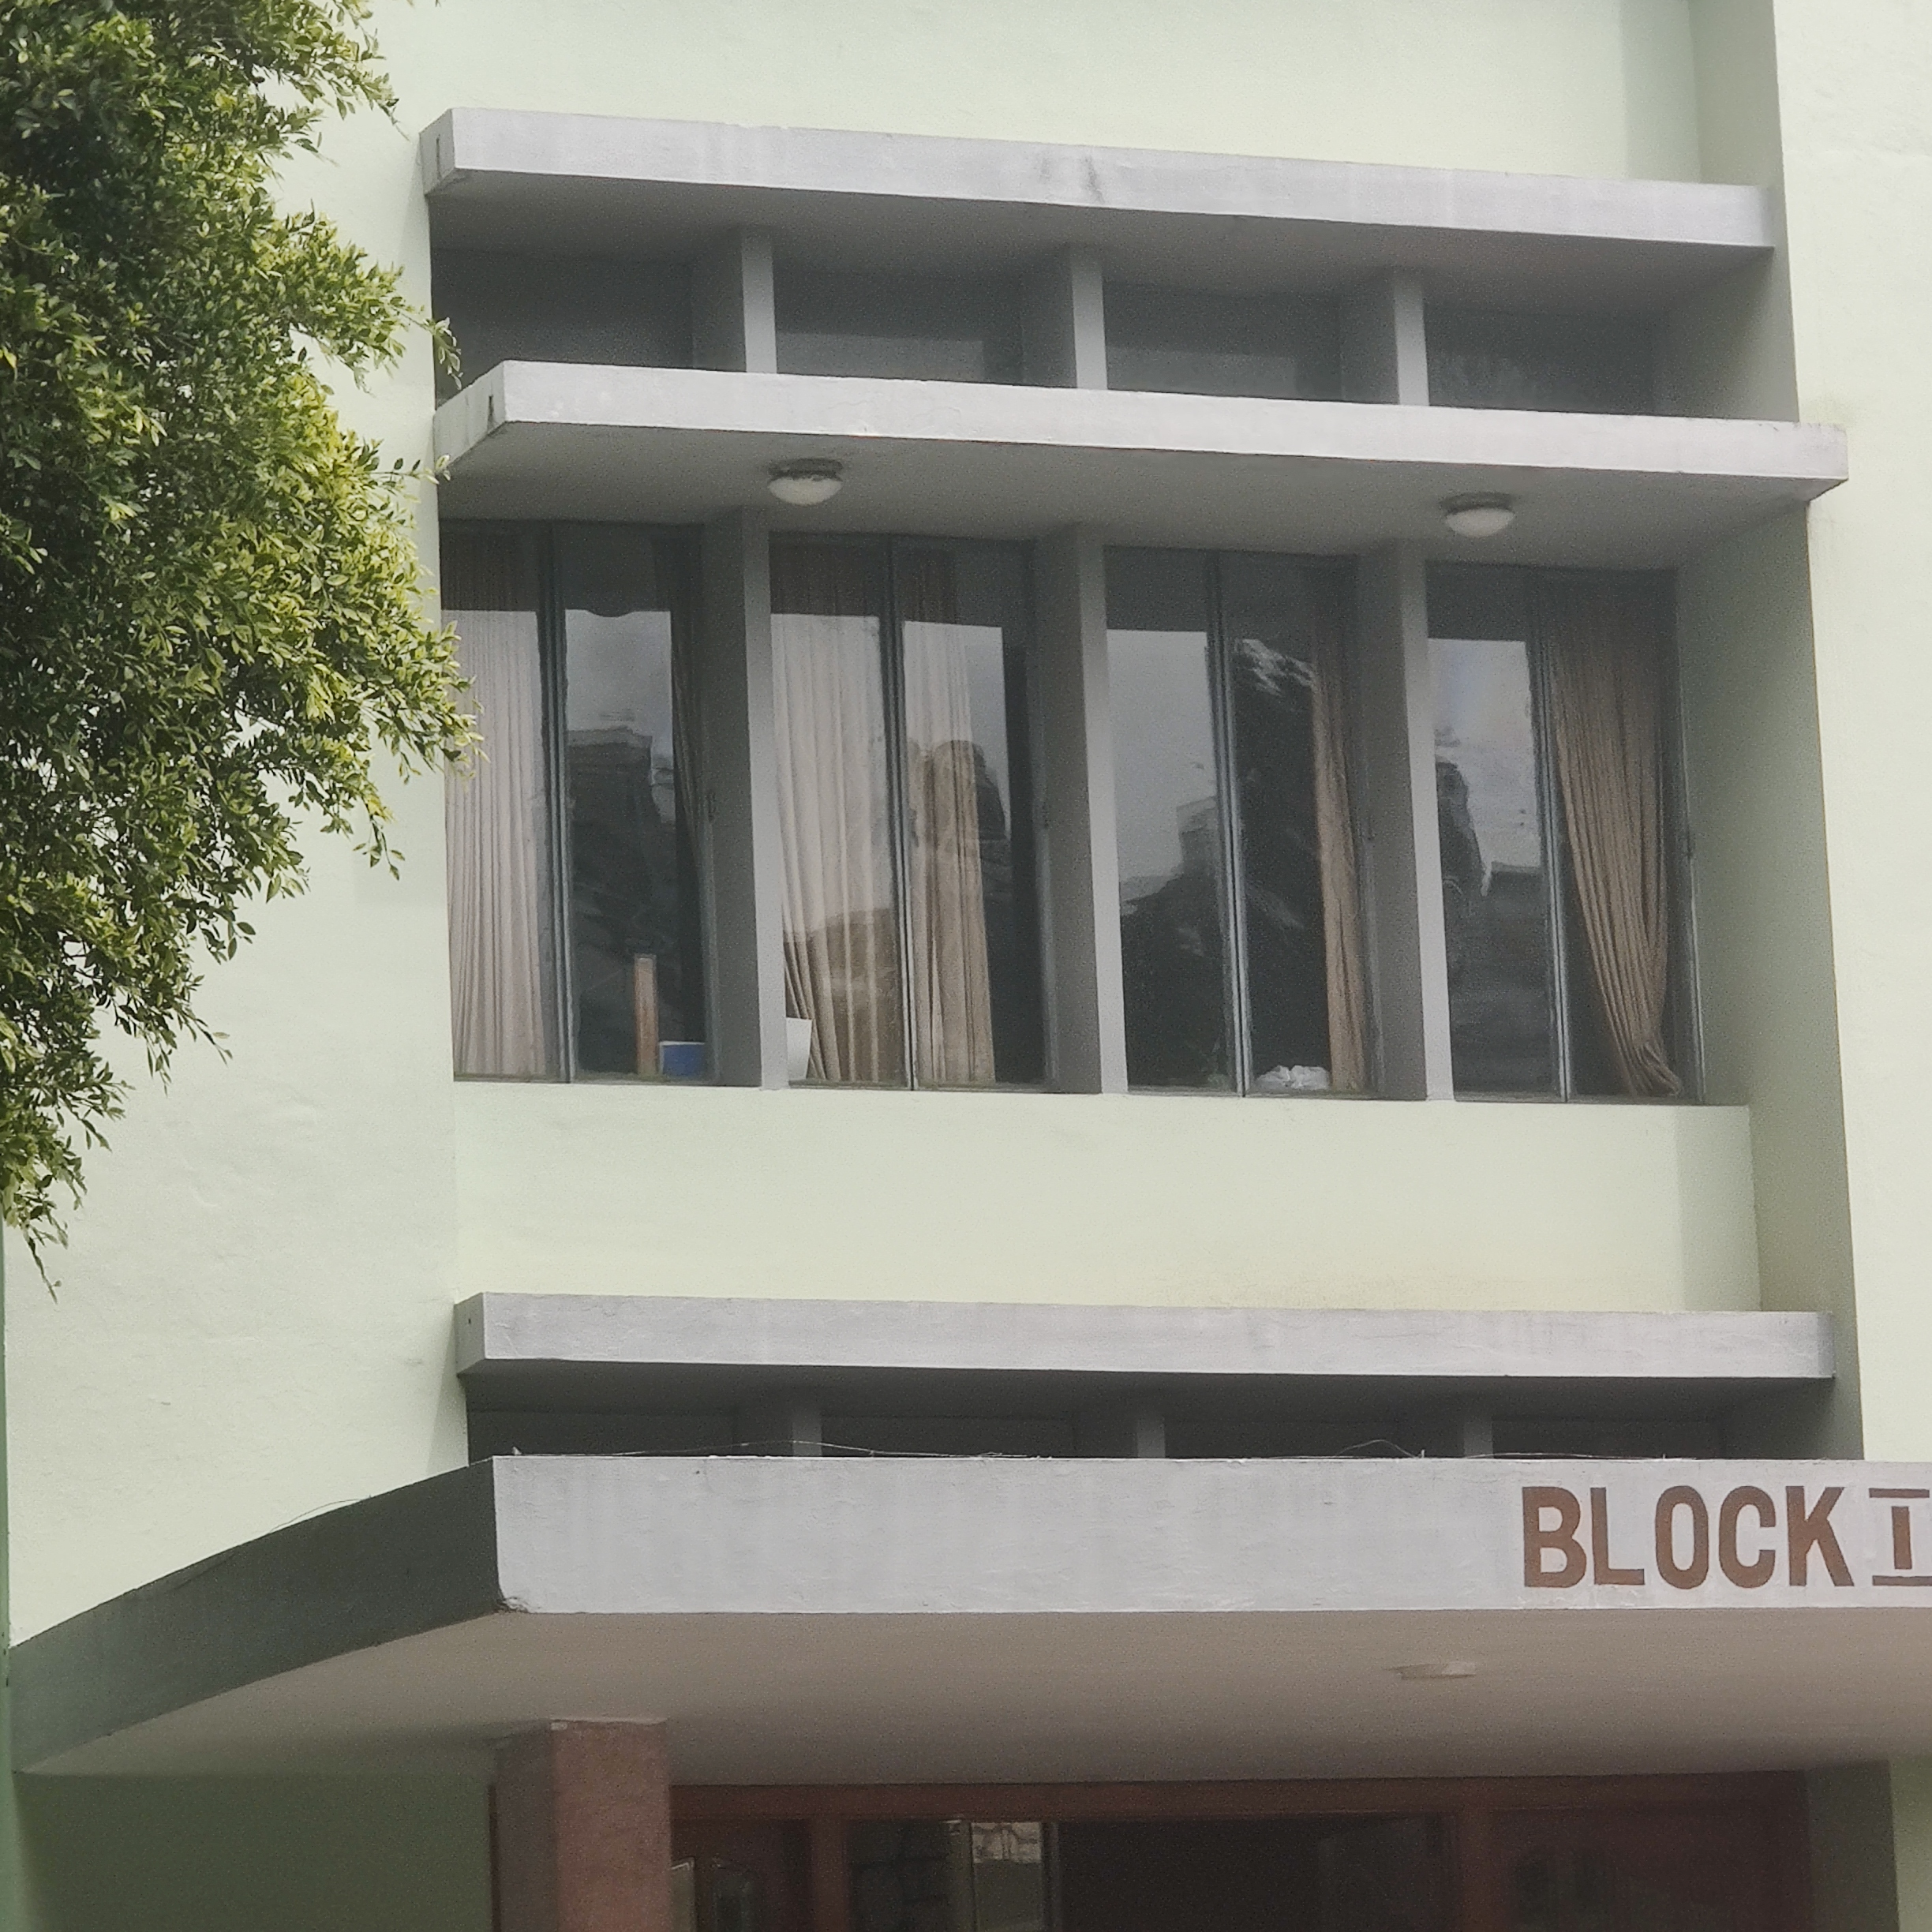Block 1: (347, 27, 1932, 1932)
